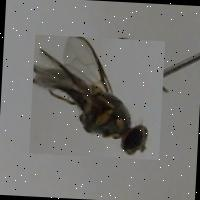Oriental-fruit-fly: (27, 34, 164, 160)
